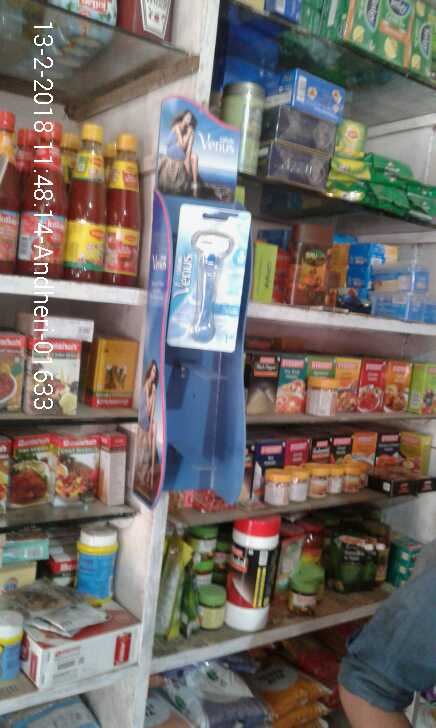venus: (169, 201, 241, 353)
